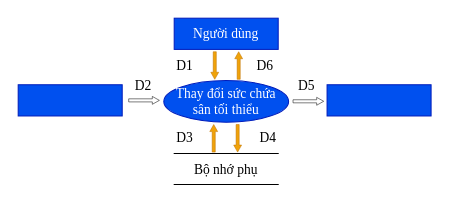
Some shapes in this 449 by 203 pixel diagram are drawn without their labels. The centre of each missing label's shape, as x and y in pixels:
Thiết bị nhập: the point at 69,100
Thiết bị xuất: the point at 378,100
